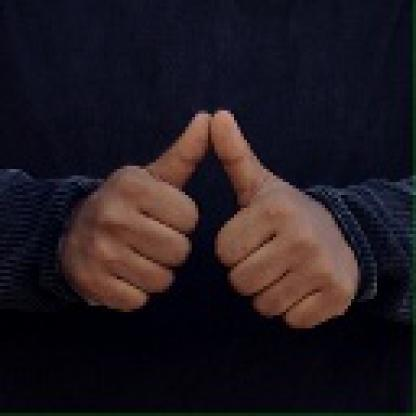A: (66, 107, 360, 334)
